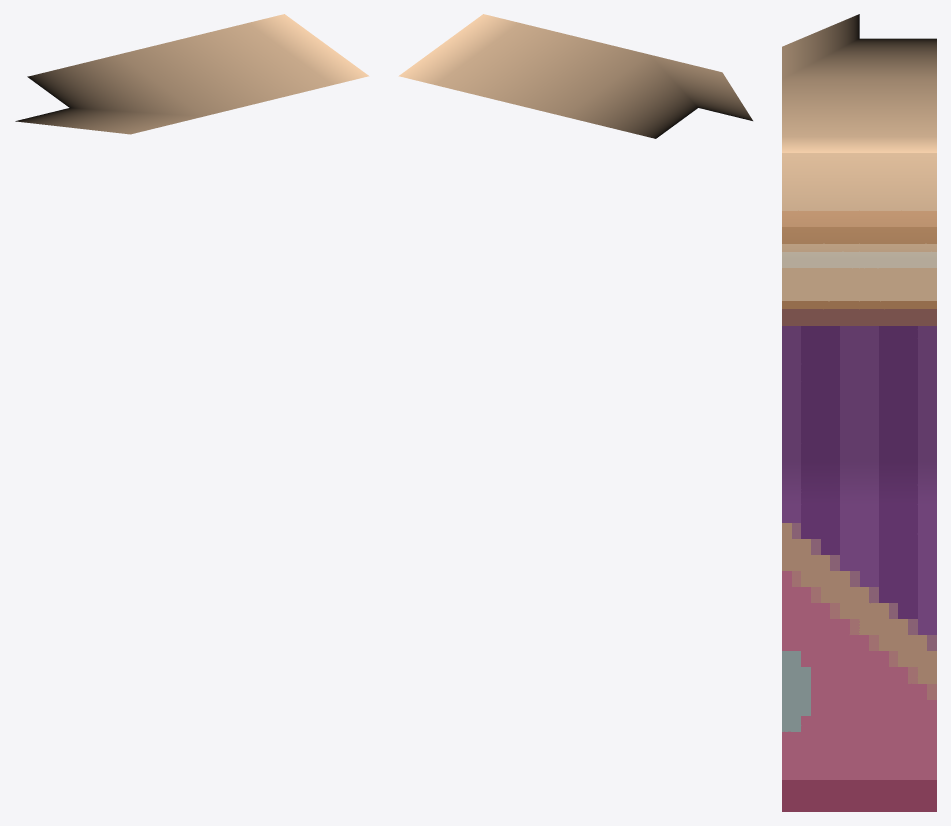
3 views of the same model, side by side, from view 1: azimuth 30°, elevation 25°; view 2: azimuth 150°, elevation 25°; view 3: azimuth 270°, elevation 25° (orthographic). The views are drawn at different scales.
Size of the model in its own units: 2.12 by 4.75 by 1.
3 materials, 3 textured.
